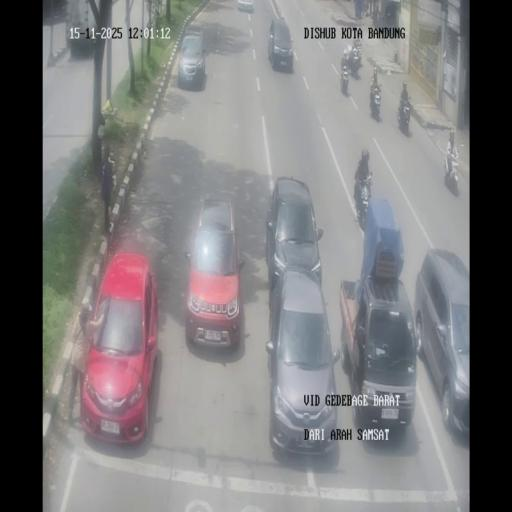car: (79, 251, 159, 444), (266, 268, 338, 458), (414, 252, 469, 440), (178, 29, 208, 90), (66, 1, 97, 58), (268, 17, 294, 72), (236, 0, 253, 12)
motorcycle: (353, 169, 373, 226), (444, 149, 460, 195), (397, 96, 411, 134), (369, 82, 382, 118), (349, 48, 361, 78), (340, 66, 350, 96), (372, 2, 381, 25), (361, 0, 369, 17)
